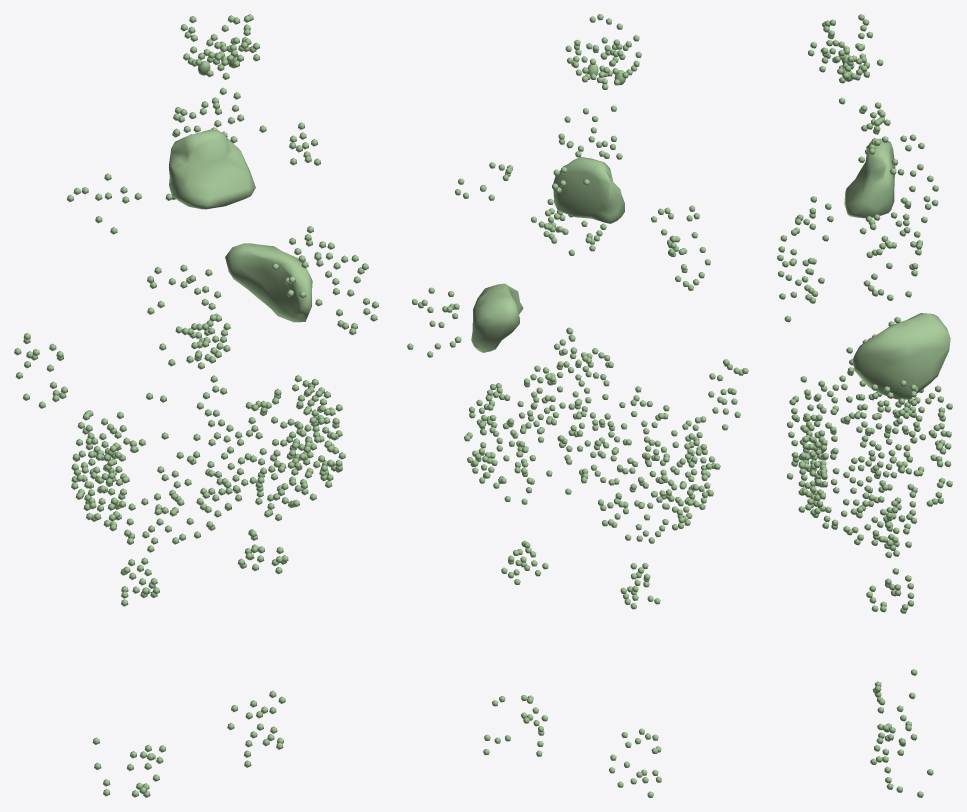
Rendered from pediatric_infant_male.lymphatic.LOD1.glb.
The picture shows the model from 3 angles, left to right: view 1: azimuth 30°, elevation 25°; view 2: azimuth 150°, elevation 25°; view 3: azimuth 270°, elevation 25°; orthographic projection. The views are drawn at different scales.
Parts seen in each view (by area): view 1: PEDIATRIC.INFANT.MALE.LYMPHATIC.LYMPHATIC_NODES_TRUNK, PEDIATRIC.INFANT.MALE.LYMPHATIC.THYMUS, PEDIATRIC.INFANT.MALE.LYMPHATIC.SPLEEN, PEDIATRIC.INFANT.MALE.LYMPHATIC.LYMPHATIC_NODES_ET, PEDIATRIC.INFANT.MALE.LYMPHATIC.LYMPHATIC_NODES_LEGS, PEDIATRIC.INFANT.MALE.LYMPHATIC.LYMPHATIC_NODES_ARMS, PEDIATRIC.INFANT.MALE.LYMPHATIC.LYMPHATIC_NODES_THORACIC, PEDIATRIC.INFANT.MALE.LYMPHATIC.LYMPHATIC_NODES_HEAD; view 2: PEDIATRIC.INFANT.MALE.LYMPHATIC.LYMPHATIC_NODES_TRUNK, PEDIATRIC.INFANT.MALE.LYMPHATIC.THYMUS, PEDIATRIC.INFANT.MALE.LYMPHATIC.SPLEEN, PEDIATRIC.INFANT.MALE.LYMPHATIC.LYMPHATIC_NODES_THORACIC, PEDIATRIC.INFANT.MALE.LYMPHATIC.LYMPHATIC_NODES_ET, PEDIATRIC.INFANT.MALE.LYMPHATIC.LYMPHATIC_NODES_LEGS, PEDIATRIC.INFANT.MALE.LYMPHATIC.LYMPHATIC_NODES_ARMS, PEDIATRIC.INFANT.MALE.LYMPHATIC.LYMPHATIC_NODES_HEAD; view 3: PEDIATRIC.INFANT.MALE.LYMPHATIC.LYMPHATIC_NODES_TRUNK, PEDIATRIC.INFANT.MALE.LYMPHATIC.SPLEEN, PEDIATRIC.INFANT.MALE.LYMPHATIC.THYMUS, PEDIATRIC.INFANT.MALE.LYMPHATIC.LYMPHATIC_NODES_ET, PEDIATRIC.INFANT.MALE.LYMPHATIC.LYMPHATIC_NODES_ARMS, PEDIATRIC.INFANT.MALE.LYMPHATIC.LYMPHATIC_NODES_LEGS, PEDIATRIC.INFANT.MALE.LYMPHATIC.LYMPHATIC_NODES_THORACIC, PEDIATRIC.INFANT.MALE.LYMPHATIC.LYMPHATIC_NODES_HEAD.
Boxes of the visible parts, x1,y1,x2,y2 form: PEDIATRIC.INFANT.MALE.LYMPHATIC.LYMPHATIC_NODES_TRUNK: (67,122,345,606); PEDIATRIC.INFANT.MALE.LYMPHATIC.THYMUS: (169,129,255,209); PEDIATRIC.INFANT.MALE.LYMPHATIC.SPLEEN: (225,243,312,322); PEDIATRIC.INFANT.MALE.LYMPHATIC.LYMPHATIC_NODES_ET: (180,14,259,79); PEDIATRIC.INFANT.MALE.LYMPHATIC.LYMPHATIC_NODES_LEGS: (92,690,285,797); PEDIATRIC.INFANT.MALE.LYMPHATIC.LYMPHATIC_NODES_ARMS: (14,255,378,408); PEDIATRIC.INFANT.MALE.LYMPHATIC.LYMPHATIC_NODES_THORACIC: (159,125,230,369); PEDIATRIC.INFANT.MALE.LYMPHATIC.LYMPHATIC_NODES_HEAD: (173,87,244,143); PEDIATRIC.INFANT.MALE.LYMPHATIC.LYMPHATIC_NODES_TRUNK: (455,162,720,609); PEDIATRIC.INFANT.MALE.LYMPHATIC.THYMUS: (553,157,624,223); PEDIATRIC.INFANT.MALE.LYMPHATIC.SPLEEN: (471,283,523,352); PEDIATRIC.INFANT.MALE.LYMPHATIC.LYMPHATIC_NODES_THORACIC: (544,167,613,386); PEDIATRIC.INFANT.MALE.LYMPHATIC.LYMPHATIC_NODES_ET: (565,14,641,89); PEDIATRIC.INFANT.MALE.LYMPHATIC.LYMPHATIC_NODES_LEGS: (483,695,661,797); PEDIATRIC.INFANT.MALE.LYMPHATIC.LYMPHATIC_NODES_ARMS: (407,287,748,430); PEDIATRIC.INFANT.MALE.LYMPHATIC.LYMPHATIC_NODES_HEAD: (558,105,622,159); PEDIATRIC.INFANT.MALE.LYMPHATIC.LYMPHATIC_NODES_TRUNK: (777,117,952,613); PEDIATRIC.INFANT.MALE.LYMPHATIC.SPLEEN: (852,313,950,399); PEDIATRIC.INFANT.MALE.LYMPHATIC.THYMUS: (844,138,895,218); PEDIATRIC.INFANT.MALE.LYMPHATIC.LYMPHATIC_NODES_ET: (808,14,883,83); PEDIATRIC.INFANT.MALE.LYMPHATIC.LYMPHATIC_NODES_ARMS: (860,230,921,451); PEDIATRIC.INFANT.MALE.LYMPHATIC.LYMPHATIC_NODES_LEGS: (870,669,933,797); PEDIATRIC.INFANT.MALE.LYMPHATIC.LYMPHATIC_NODES_THORACIC: (862,145,938,343); PEDIATRIC.INFANT.MALE.LYMPHATIC.LYMPHATIC_NODES_HEAD: (839,97,890,162).
Size of the model in its own units: 0.2412 by 0.5127 by 0.1093.
